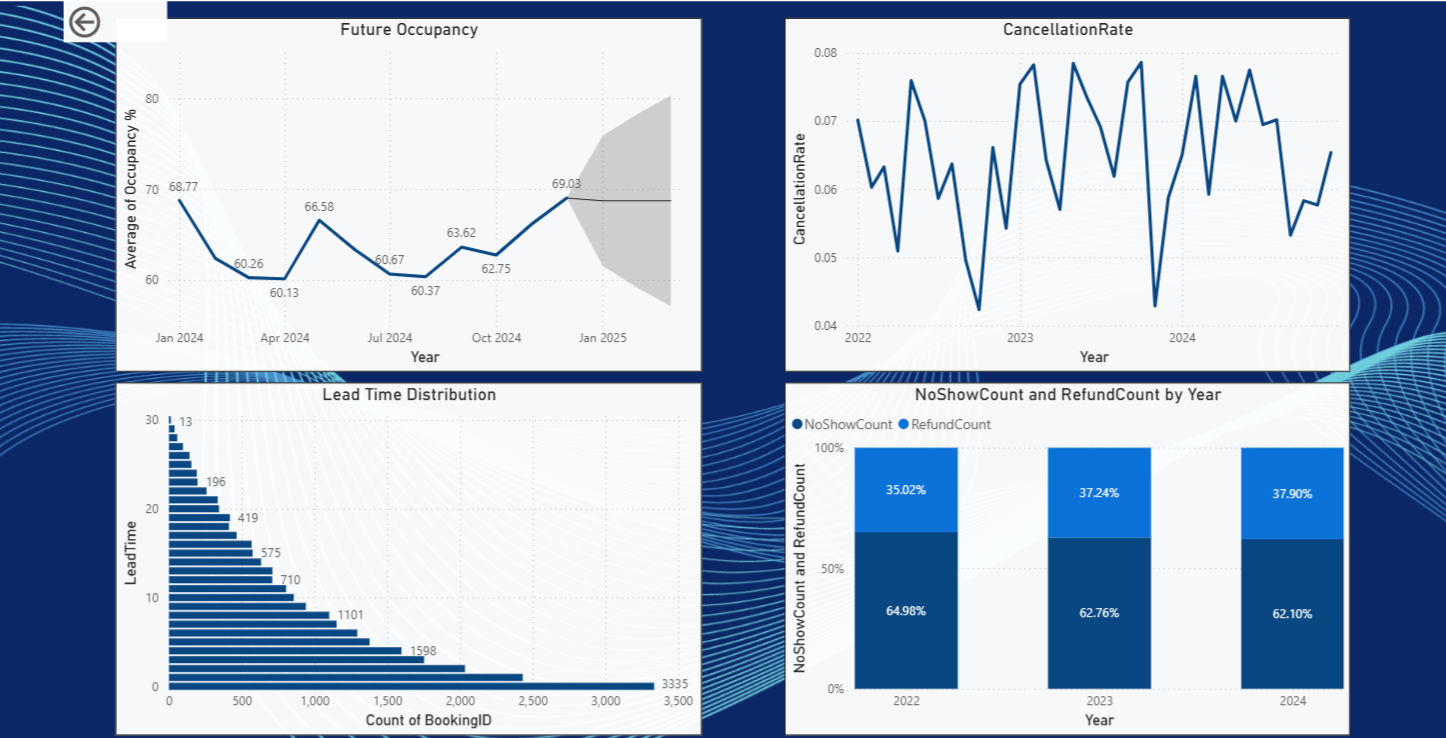

The dashboard page shown, as its layout file describes it:
{"tool":"powerbi","page":{"name":"Forecasting and Cancellation Trends","canvas":[1280,720],"ordinal":7},"visuals":[{"type":"lineChart","title":"Future Occupancy","fields":{"Y":["Avg(Tbl_Calculation.Occupancy %)"],"Category":["Tbl_Calculation.StayDate.Variation.Date Hierarchy.Year","Tbl_Calculation.StayDate.Variation.Date Hierarchy.Month"]},"box":[49.8,16.2,568.5,343.3],"z":0},{"type":"barChart","title":"Lead Time Distribution","fields":{"Category":["Bookings.LeadTime"],"Y":["CountNonNull(Bookings.BookingID)"]},"box":[49.8,369.5,568.5,342.1],"z":1000},{"type":"hundredPercentStackedColumnChart","fields":{"Category":["Bookings.MonthStart.Variation.Date Hierarchy.Year"],"Y":["Bookings.NoShowCount","Bookings.RefundCount"]},"box":[699.1,369.5,548.6,342.1],"z":2000},{"type":"lineChart","title":"CancellationRate","fields":{"Y":["Bookings.CancellationRate"],"Category":["Bookings.MonthStart.Variation.Date Hierarchy.Year","Bookings.MonthStart.Variation.Date Hierarchy.Month"]},"box":[699.1,16.2,548.6,343.3],"z":3000},{"type":"actionButton","box":[0,0,100,40],"z":4000}]}

Visuals, with their boxes on the page's 1280x720 design canvas (x1, y1, x2, y2). These are canvas units, not pixel positions in the 1446x738 screenshot, which may show the page scaled, cropped or inside an application window:
"Future Occupancy" lineChart: 50, 16, 618, 360
"Lead Time Distribution" barChart: 50, 370, 618, 712
hundredPercentStackedColumnChart - Bookings.MonthStart.Variation.Date Hierarchy.Year x Bookings.NoShowCount: 699, 370, 1248, 712
"CancellationRate" lineChart: 699, 16, 1248, 360
actionButton: 0, 0, 100, 40
